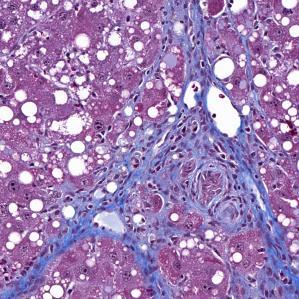fibrosis: (129, 86, 261, 194), (197, 165, 295, 281), (63, 198, 167, 256)
